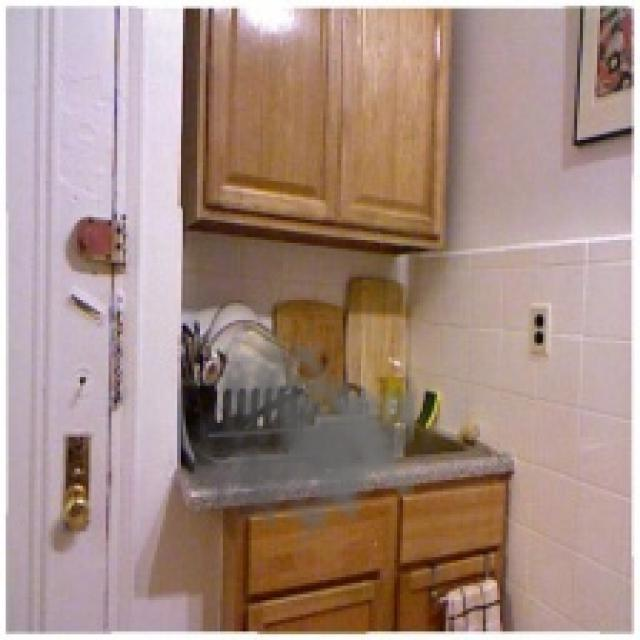Smoke: (183, 331, 414, 560)
